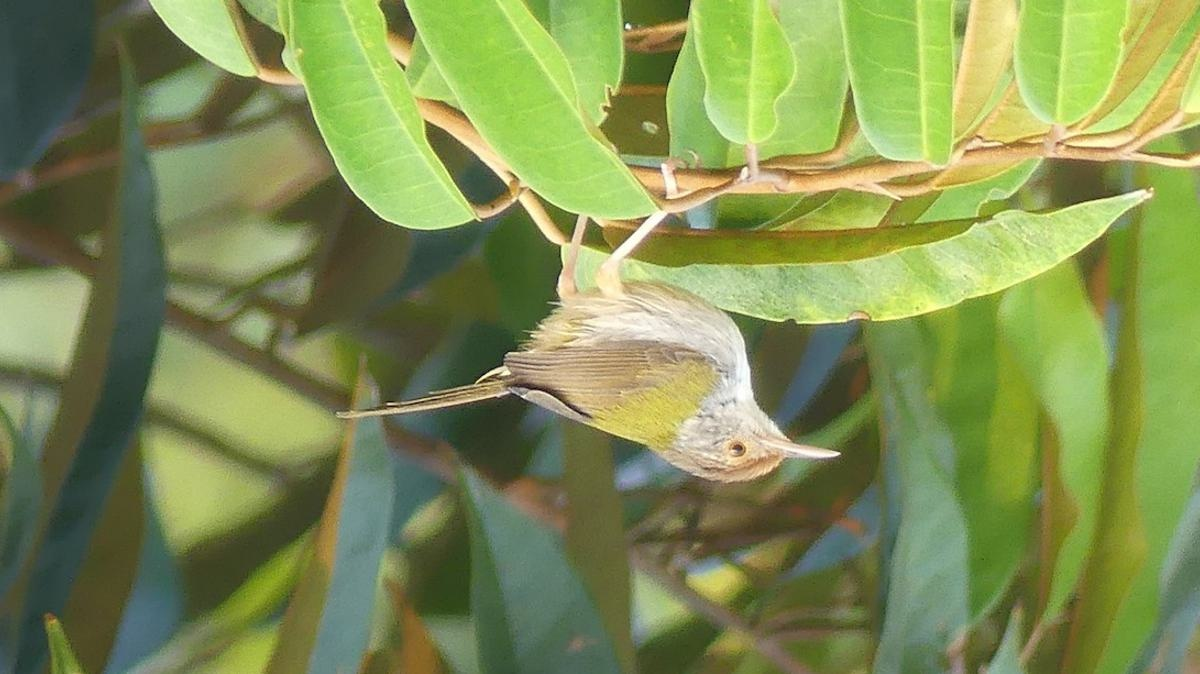tailorbird: (275, 222, 903, 501)
